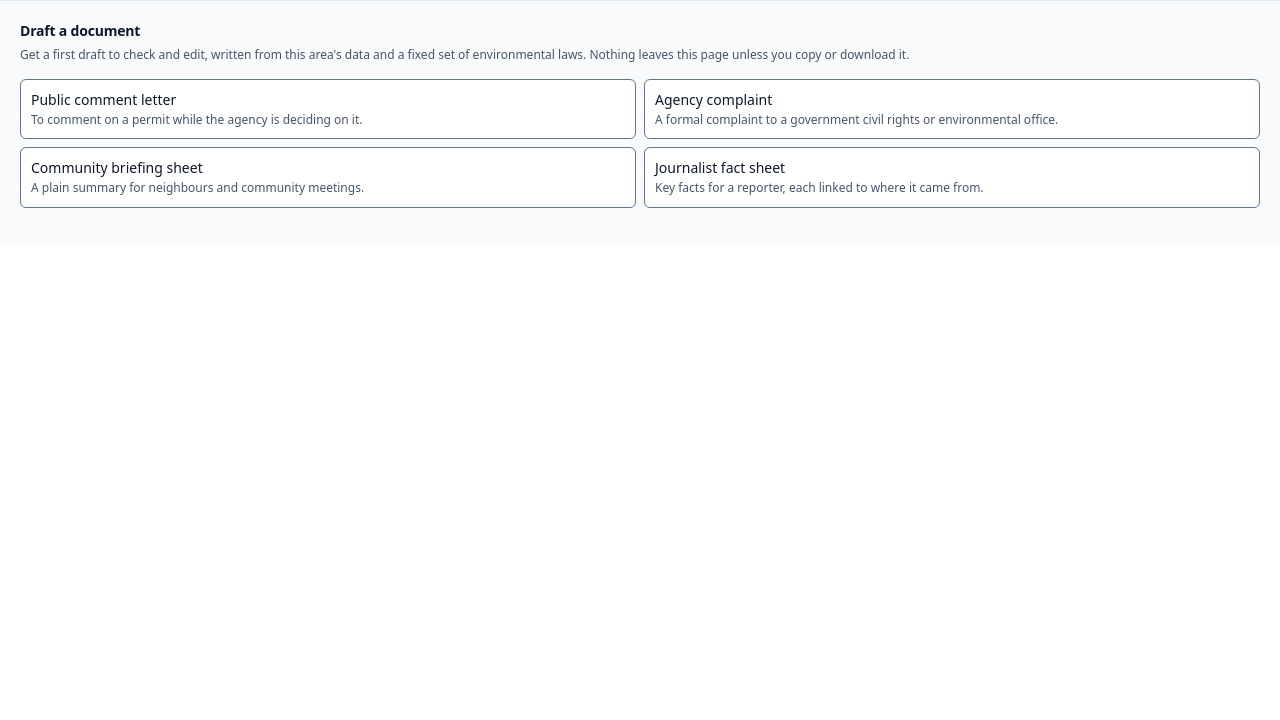
it: a complaint shows what it rests on › renders the legal basis, as a link like every other citation
The image size is (1280, 720).
What coordinates should you click on to do the following:
click the text "Agency complaint"
I would click on:
 (714, 99)
Its box is [655,90,772,108].
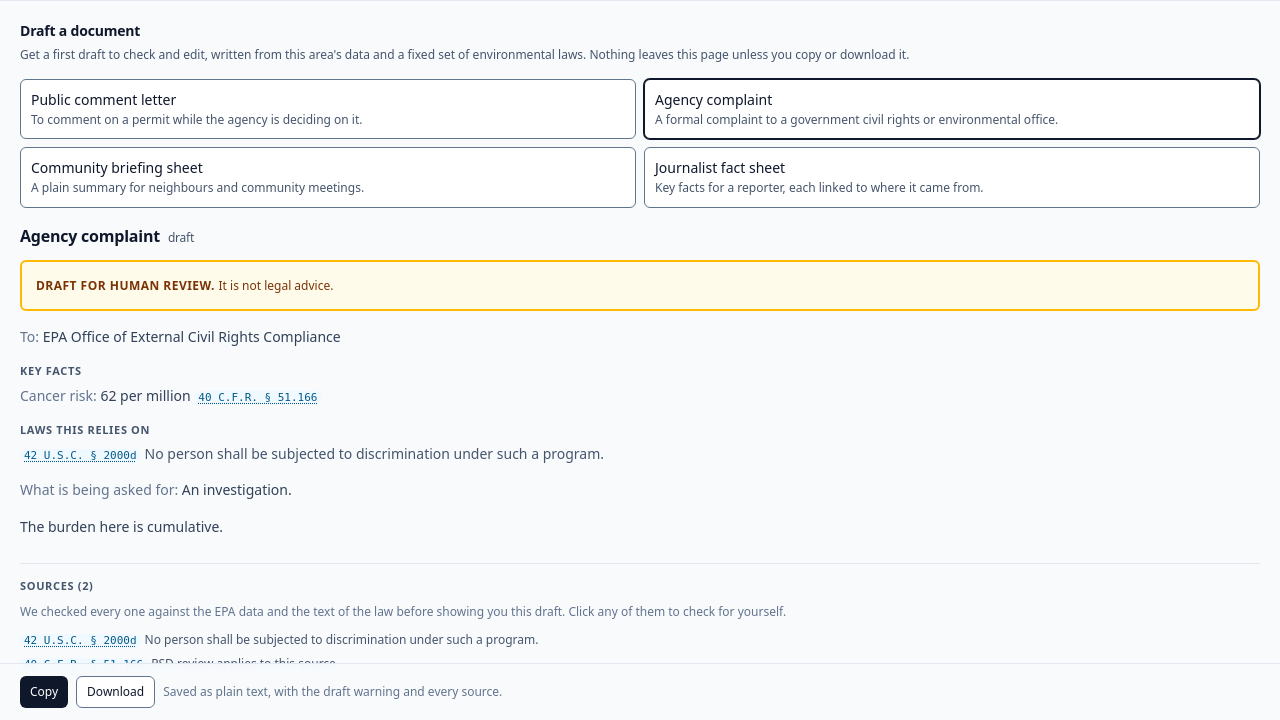
Check: the element showing "Draft for human review. It is not legal advice." is shown, box [20,260,1260,311]
Check: the heading "Laws this relies on" is shown, box [20,422,150,436]
